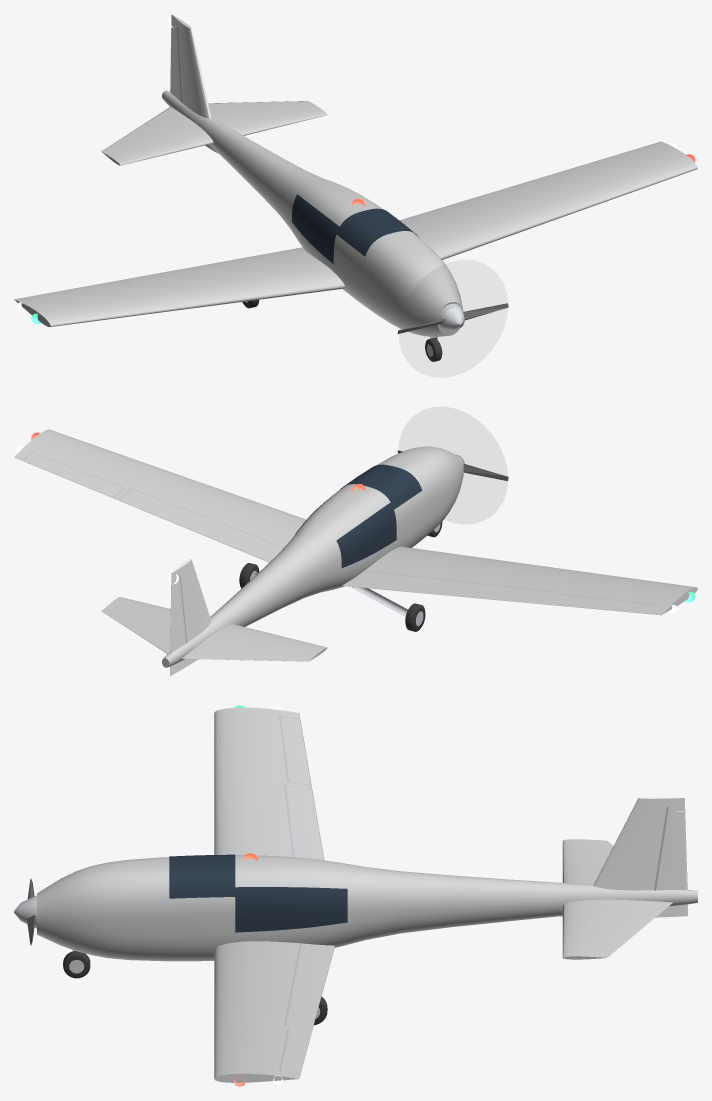
The picture shows the model from 3 angles, top to bottom: view 1: azimuth 30°, elevation 25°; view 2: azimuth 150°, elevation 25°; view 3: azimuth 270°, elevation 25°; orthographic projection. The views are drawn at different scales.
Visible parts, largest first — view 1: airframe; view 2: airframe; view 3: airframe.
Part boxes in pixels (x1,y1,x2,y2): airframe: [14, 14, 697, 361]; airframe: [14, 429, 697, 676]; airframe: [14, 705, 697, 1086].
Size of the model in its own units: 9.92 by 2.23 by 7.66.
